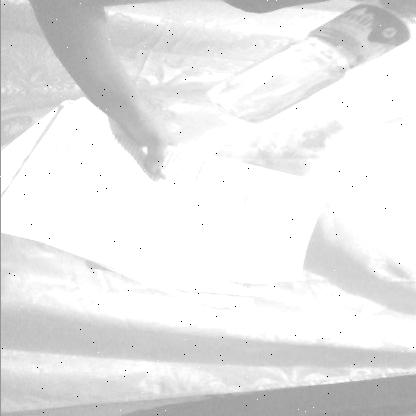Plastic Bottle: (210, 7, 392, 127)
